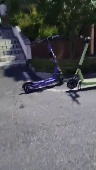beam: (21, 37, 66, 93)
gcooter: (66, 35, 96, 91)
